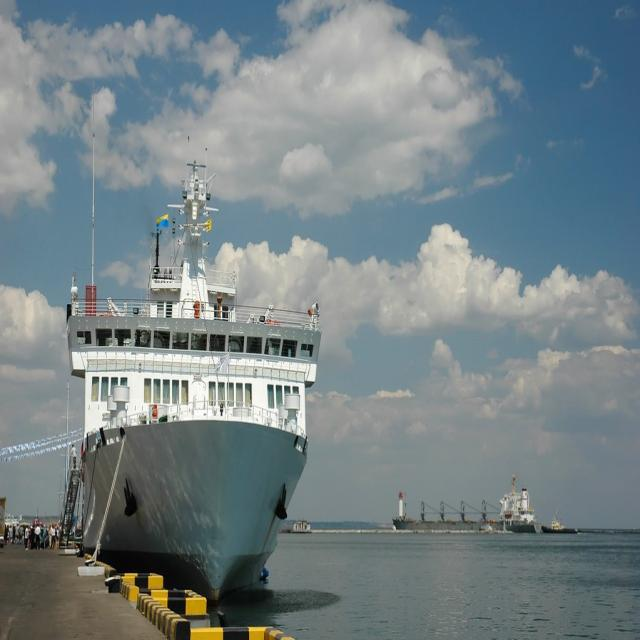cargoship: (389, 478, 540, 537)
houseboat: (540, 509, 575, 537)
passenger ship: (61, 163, 308, 590)
